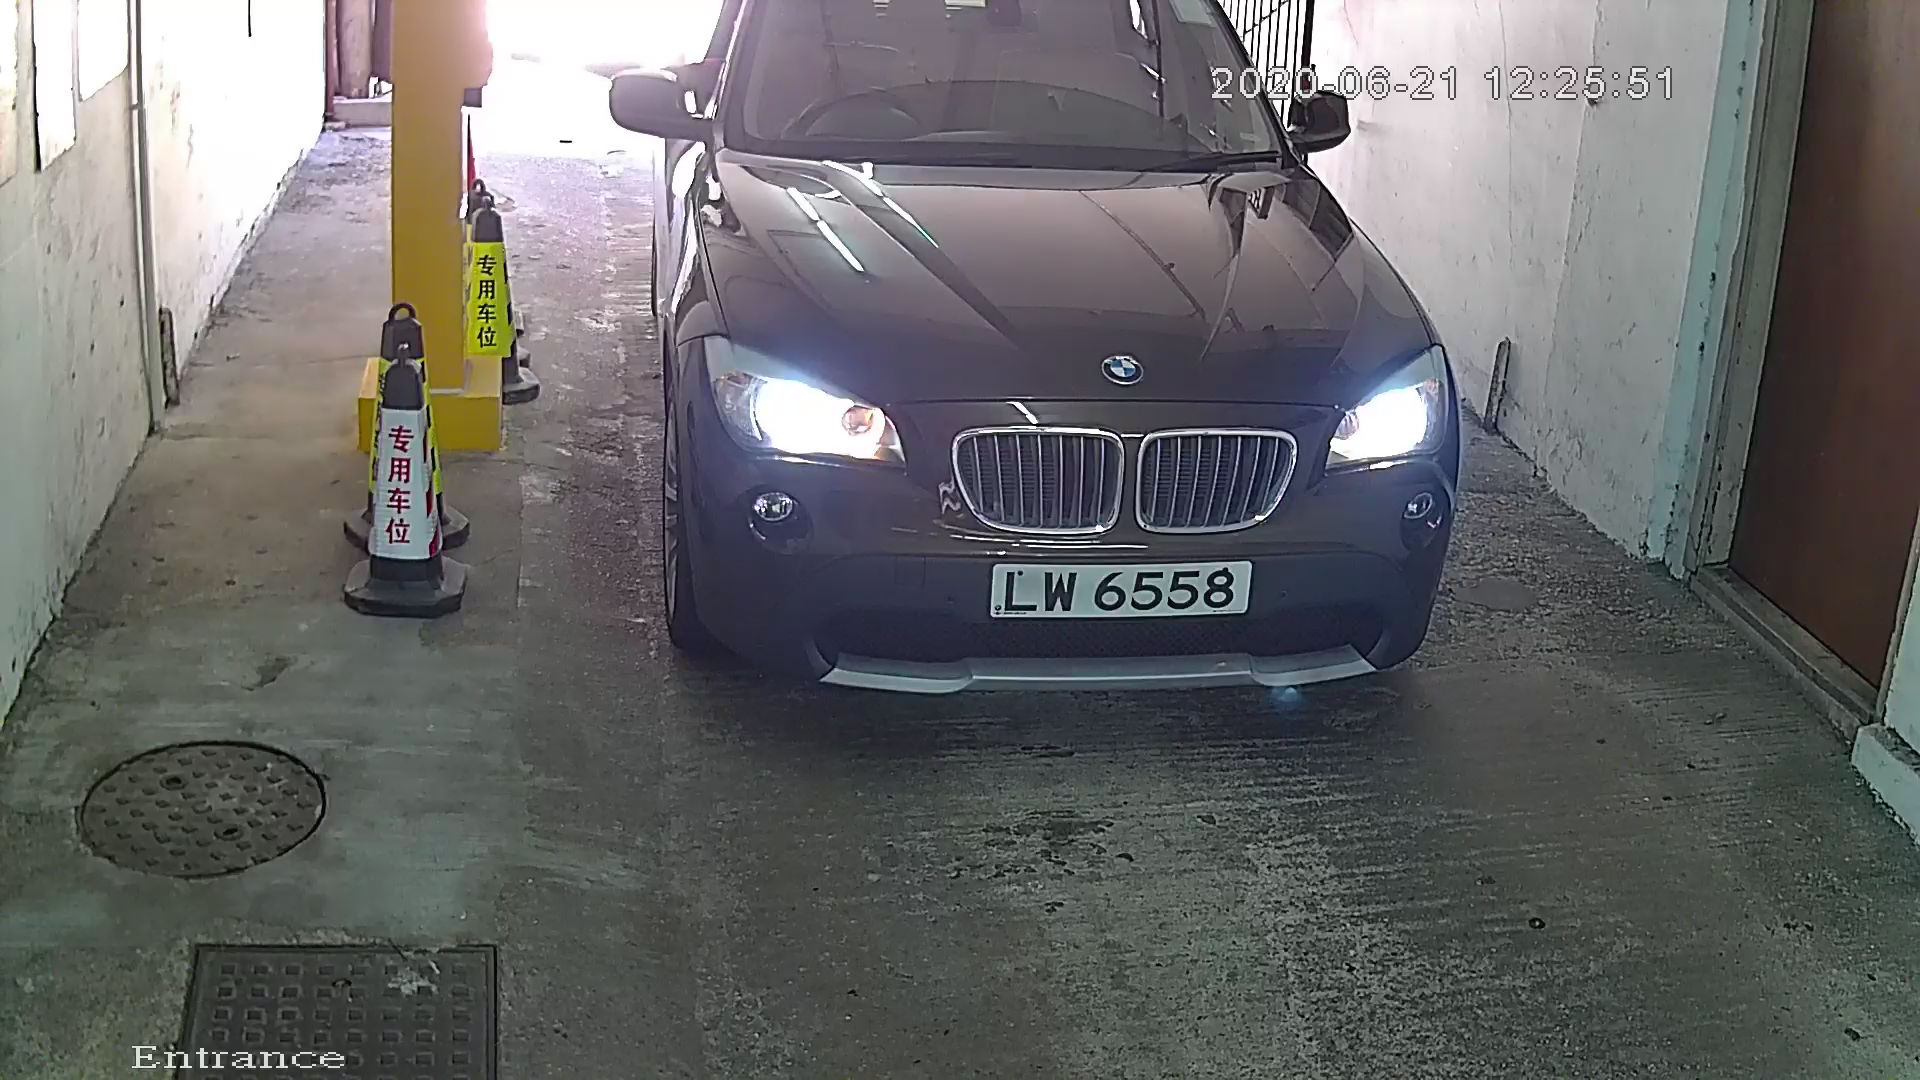privatecar: (589, 3, 1539, 766)
